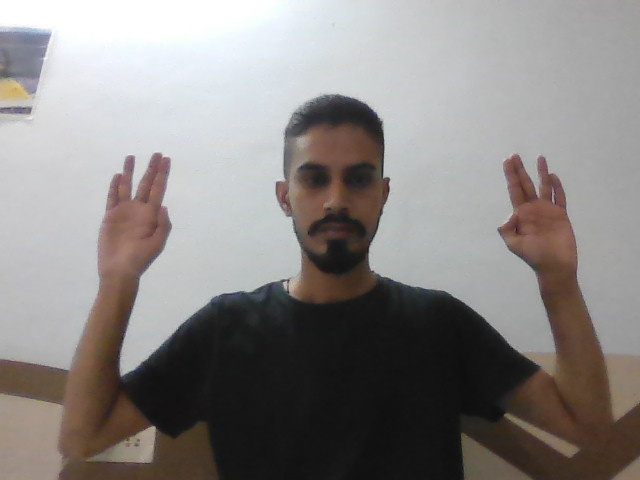LiveLong: (91, 146, 183, 292)
